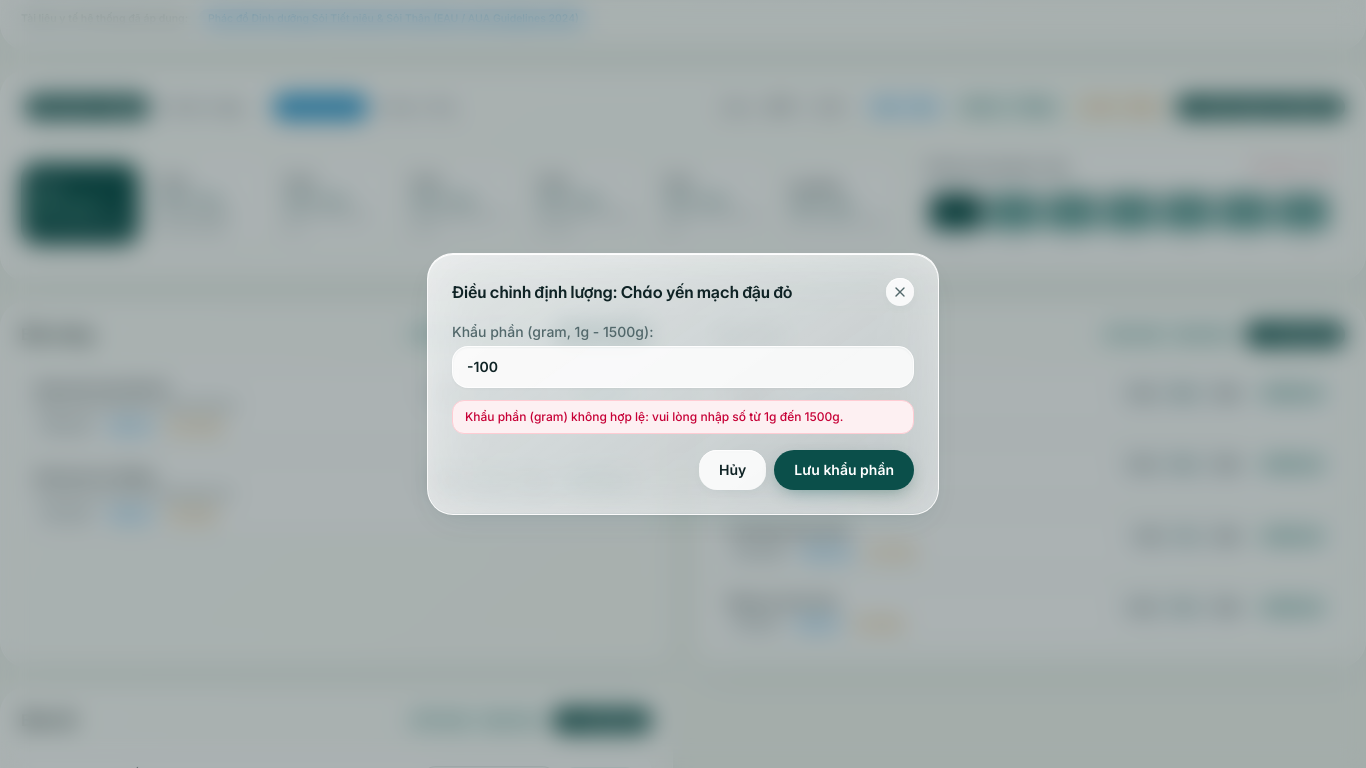
Test: E2E Report Regressions (E2E-01..E2E-09 & BS-11) › E2E-04: Negative/zero/empty/oversized grams in Planner modal are rejected with error and never silently coerced to 10g
Earlier steps of the test are not shown.
(page scrolled)
Expected: the text "Khẩu phần (gram) không hợp lệ" is shown, [465,409,843,424]
Replace the text in the number field labelled "Khẩu phần (gram, 1g - 1500g):" with "0" at {"x": 683, "y": 367}, box [452,346,914,388]
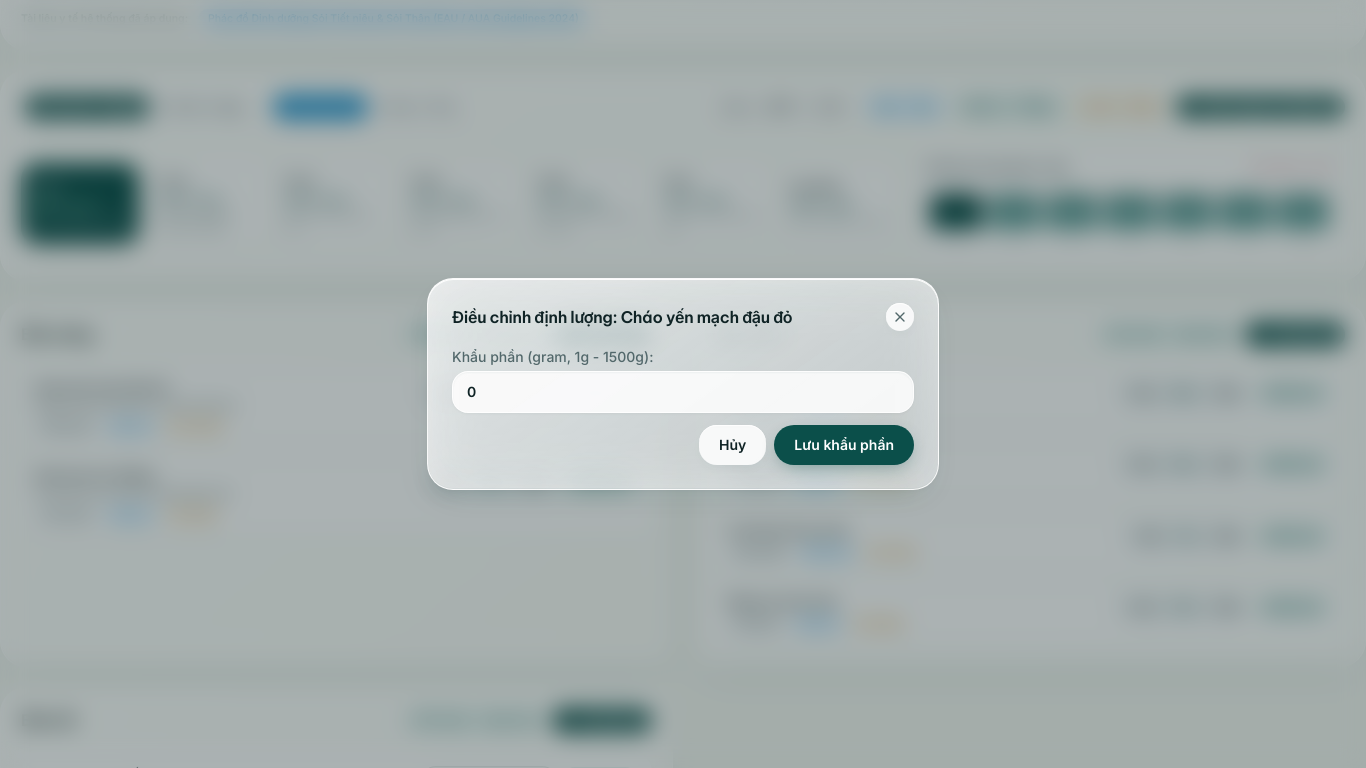
Click the button "Lưu khẩu phần" at {"x": 844, "y": 445}, box [774,425,914,465]
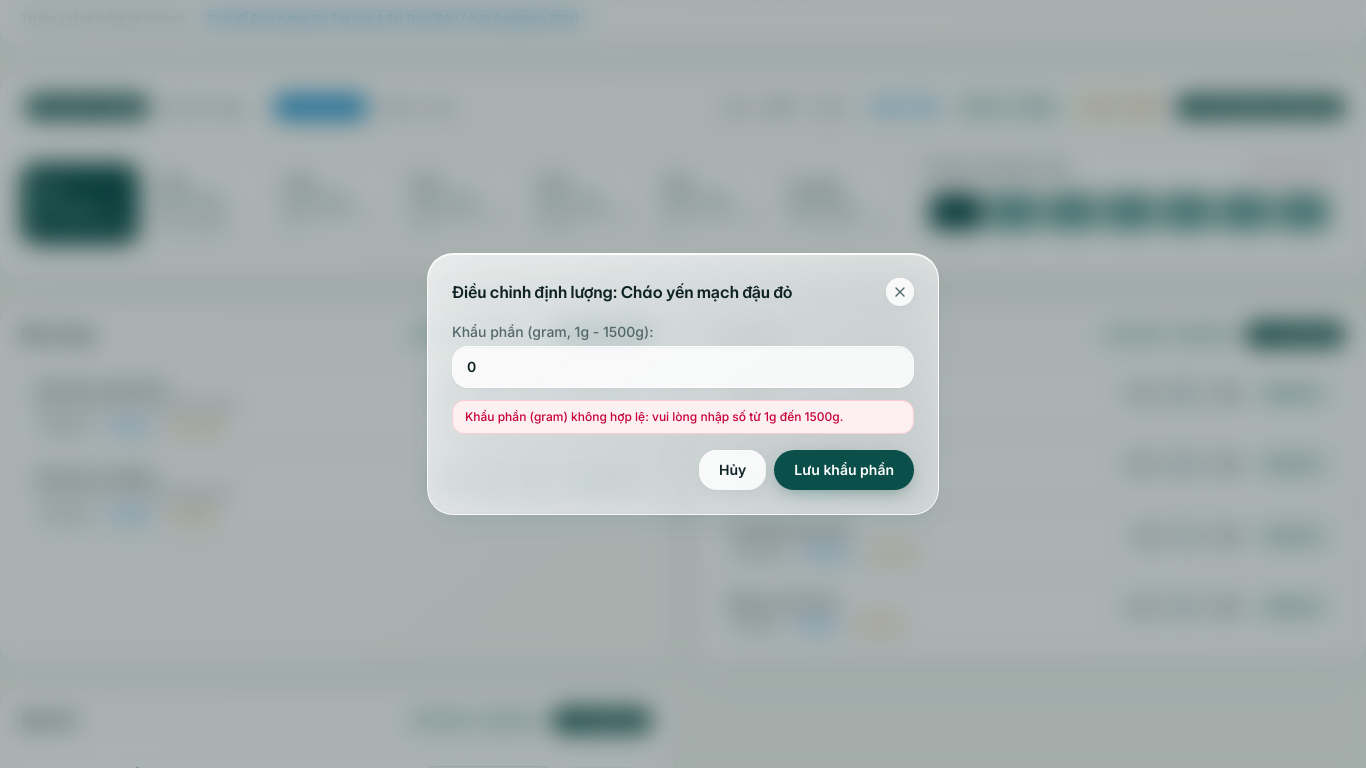
Expected: the text "Khẩu phần (gram) không hợp lệ" is shown, [465,409,843,424]
Clear the number field labelled "Khẩu phần (gram, 1g - 1500g):" at {"x": 683, "y": 367}, box [452,346,914,388]
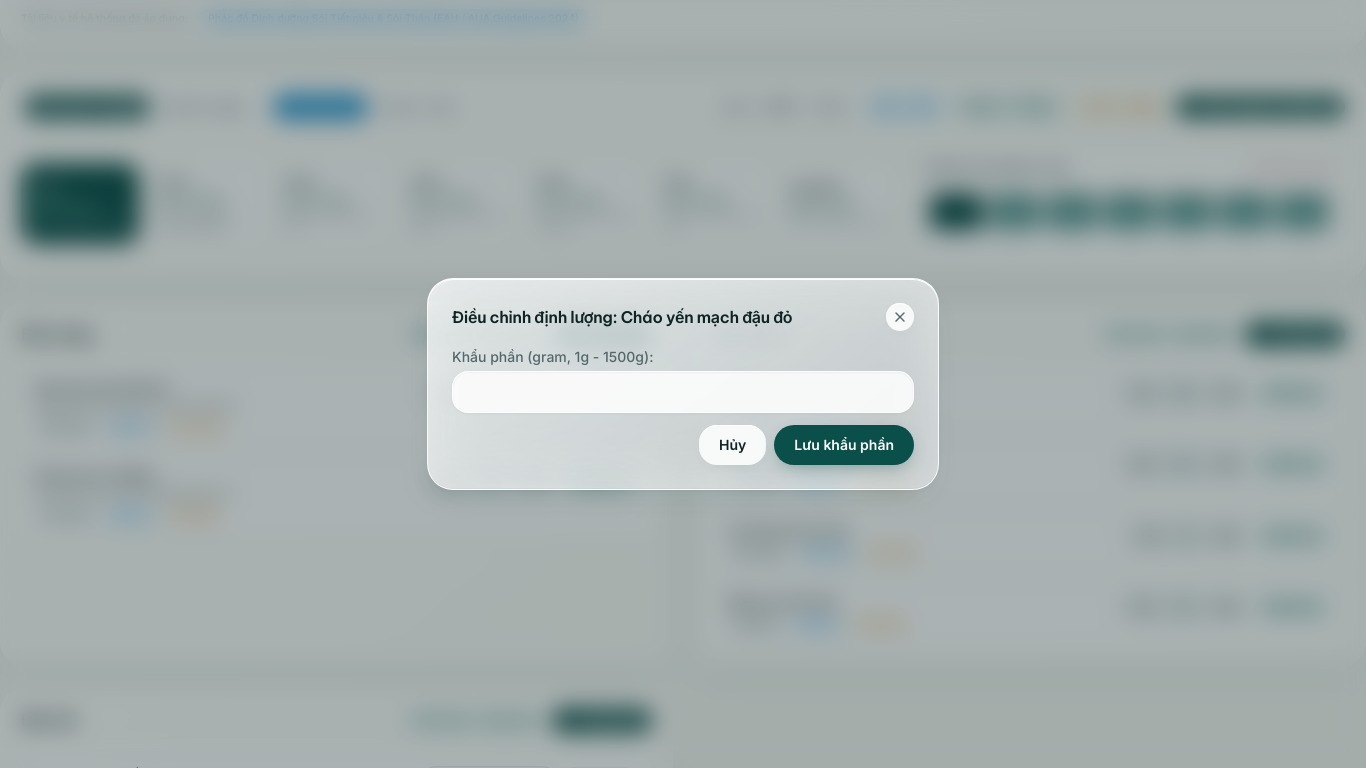
Click the button "Lưu khẩu phần" at {"x": 844, "y": 445}, box [774,425,914,465]
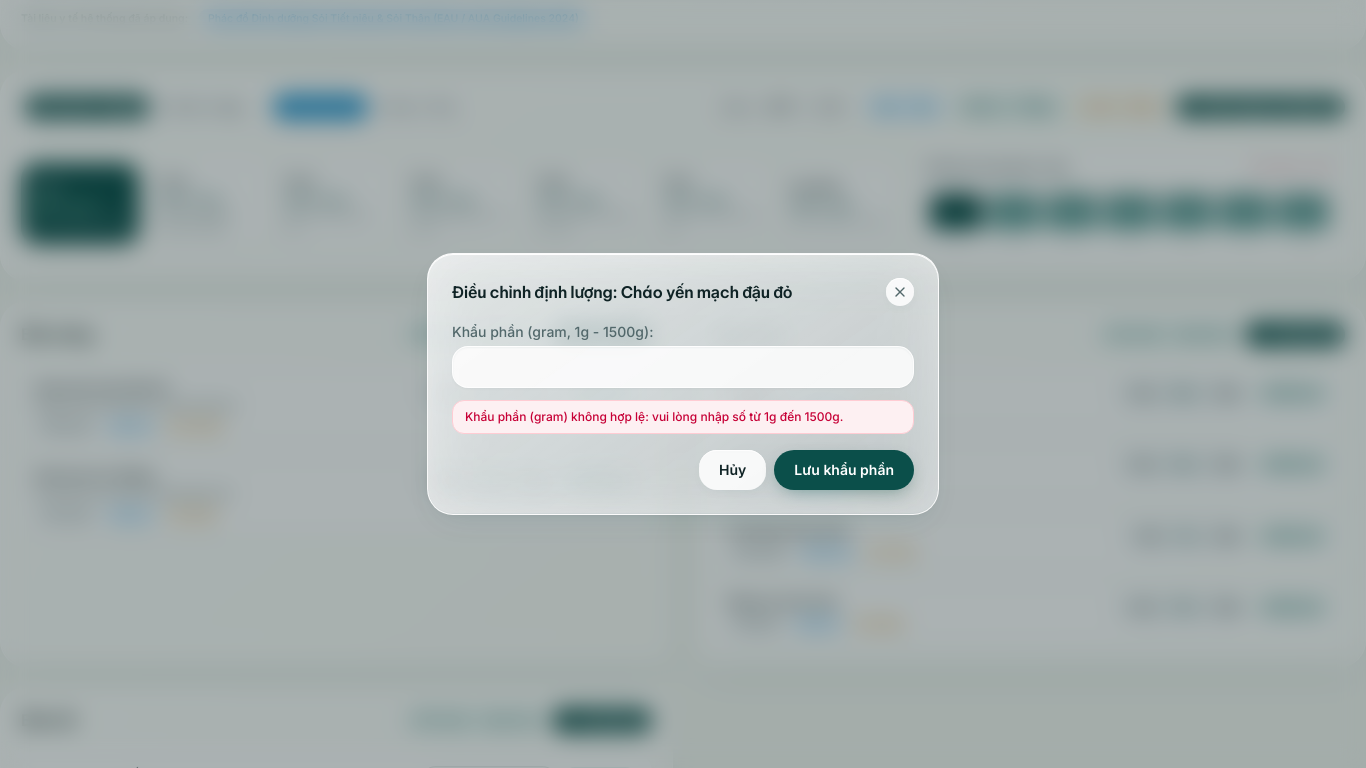
Expected: the text "Khẩu phần (gram) không hợp lệ" is shown, [465,409,843,424]
Type "2500" into the number field labelled "Khẩu phần (gram, 1g - 1500g):" at {"x": 683, "y": 367}, box [452,346,914,388]
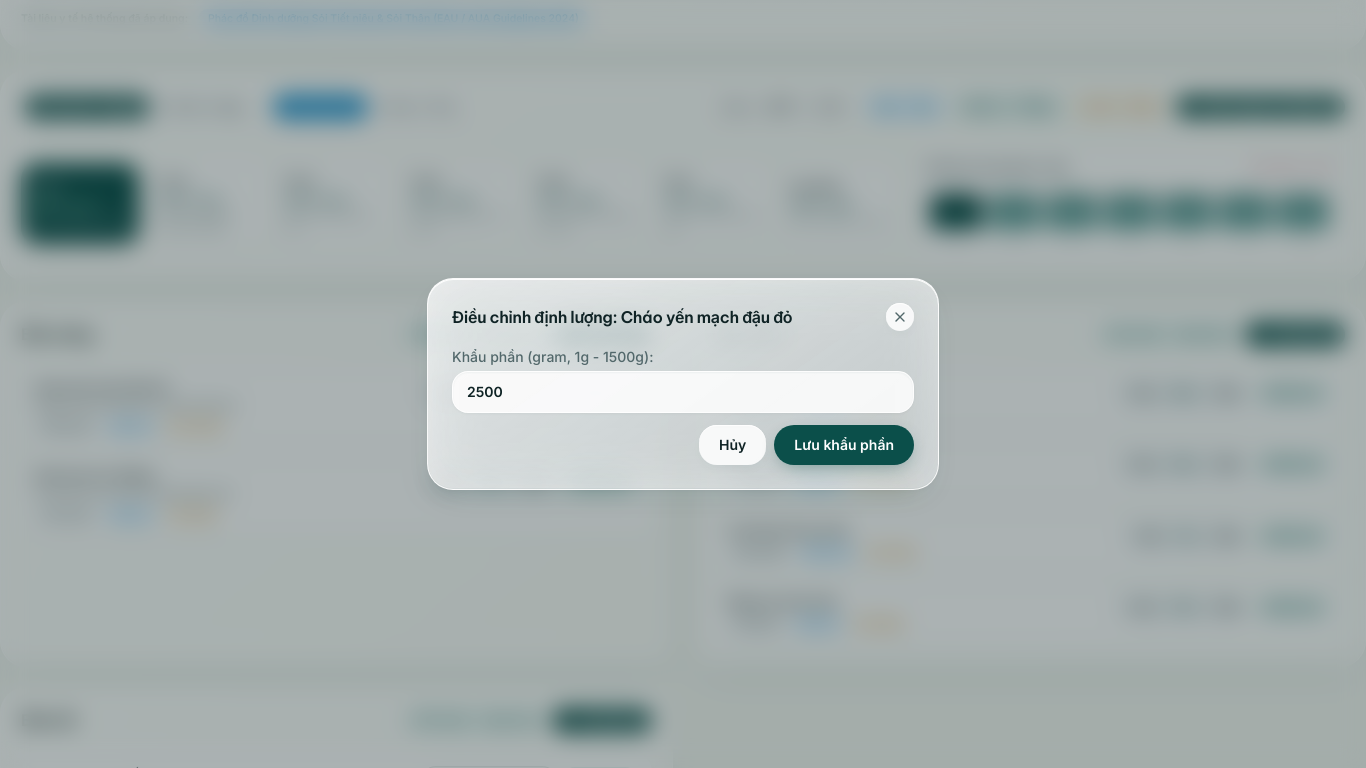
Click the button "Lưu khẩu phần" at {"x": 844, "y": 445}, box [774,425,914,465]
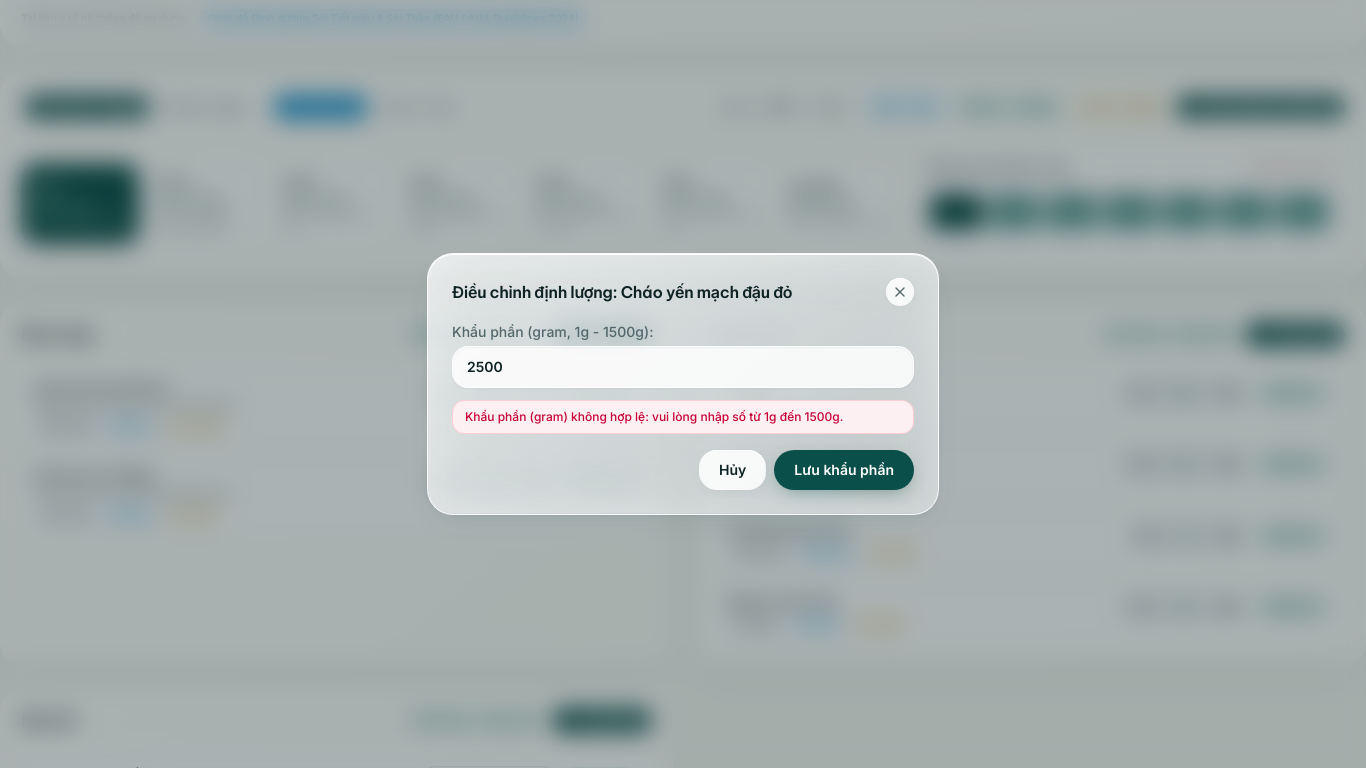
Expected: the text "Khẩu phần (gram) không hợp lệ" is shown, [465,409,843,424]
